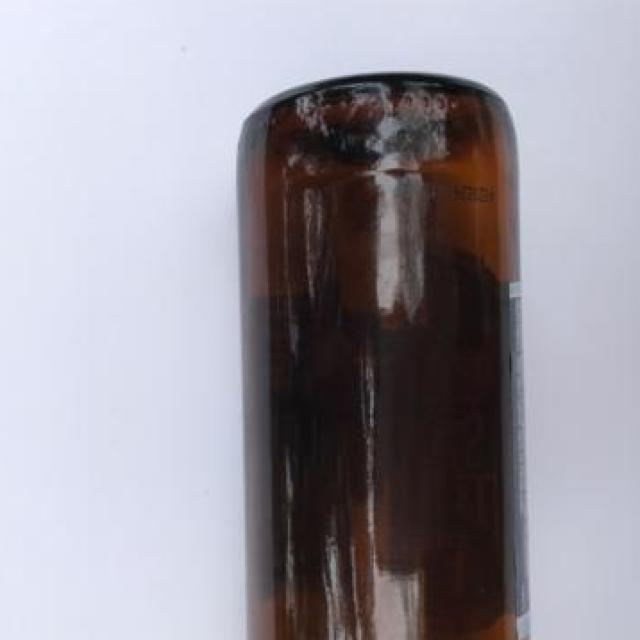organic: (239, 67, 532, 634)
